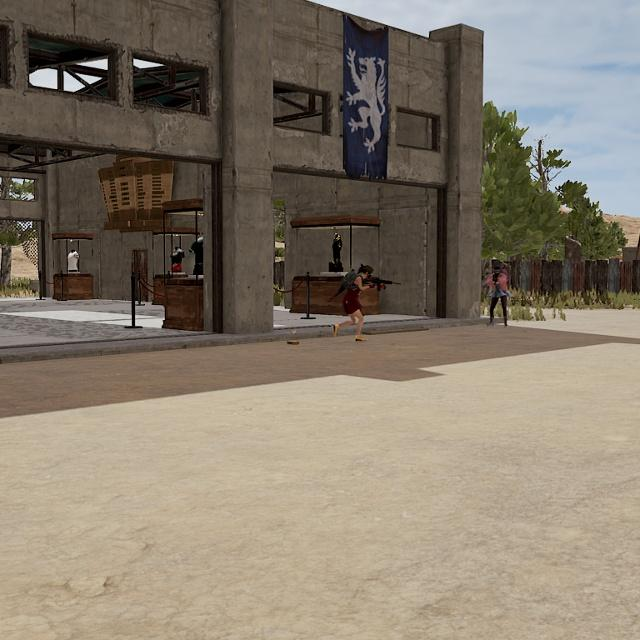head: (360, 264, 375, 279), (492, 264, 502, 276)
people: (330, 264, 376, 343), (482, 261, 513, 329)
